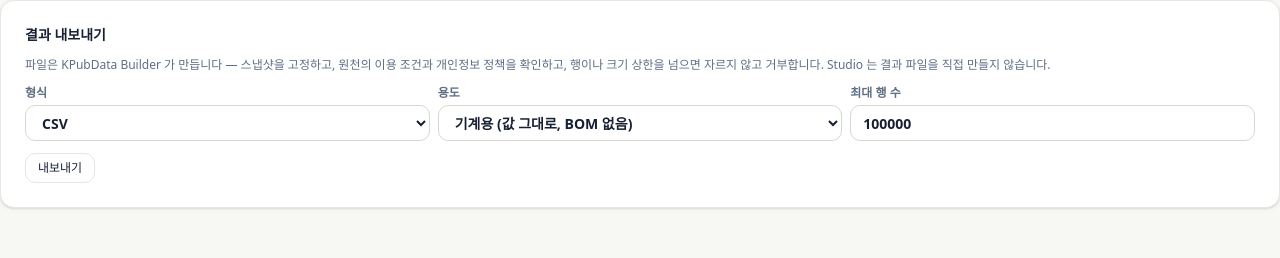
Scenario: the export panel asks Builder and shows its manifest (#501) › a refusal is not shown as success: {"code":"export_forbidden_by_license","message":"nd"}
Step 1. Click the button "내보내기" → click(60, 168), box [25,153,95,183]
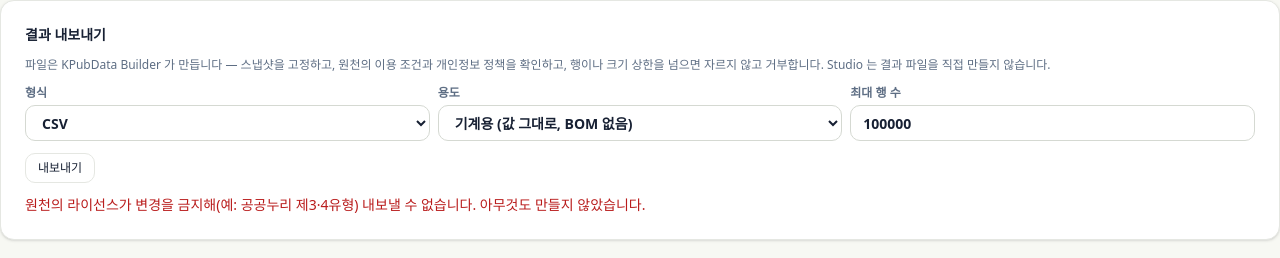
Check: the message shows "라이선스가 변경을 금지해", box [25,195,645,214]
